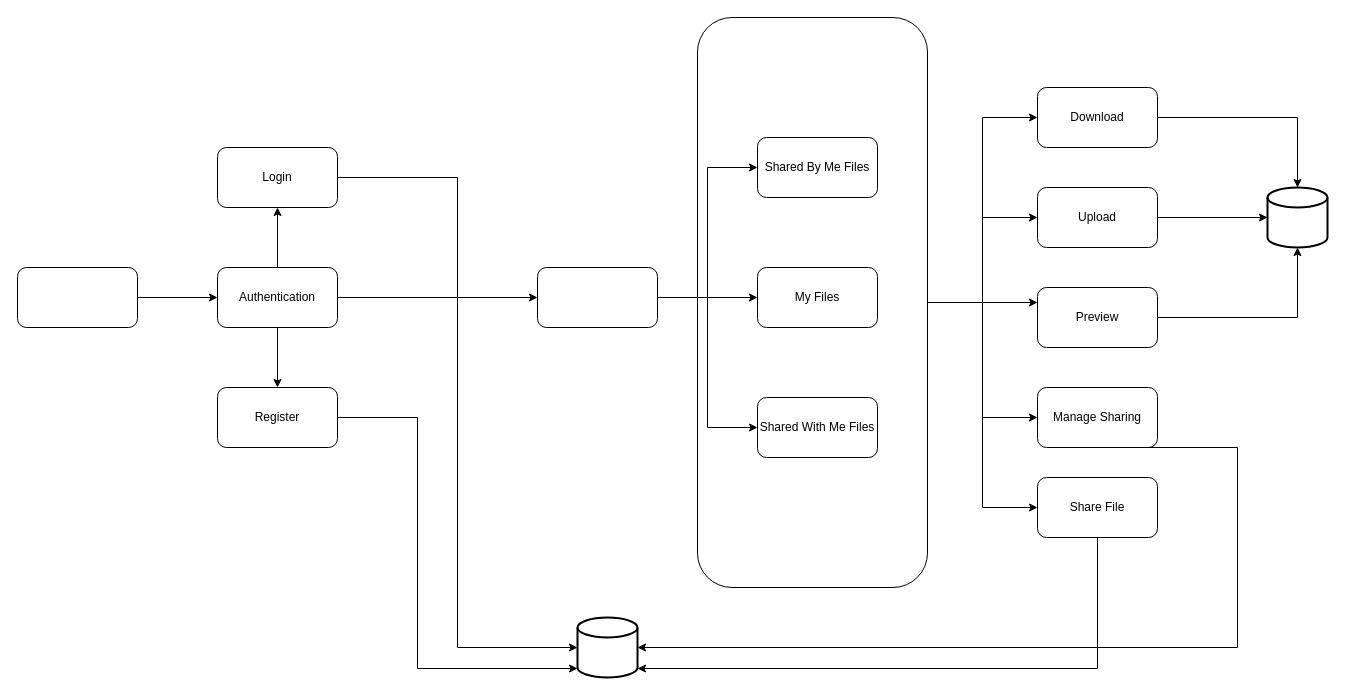
The diagram is 1346 pixels wide and 696 high, and some of its shapes have lost their labels. The shapes that lost their labels are listed below. From the top down, each one's box as (x1, y1, x2, y2) in pixels, then its label:
(1266, 186, 1328, 248): MinIO
(16, 266, 138, 328): User
(536, 266, 658, 328): Web Intterface
(576, 616, 638, 678): SQL
